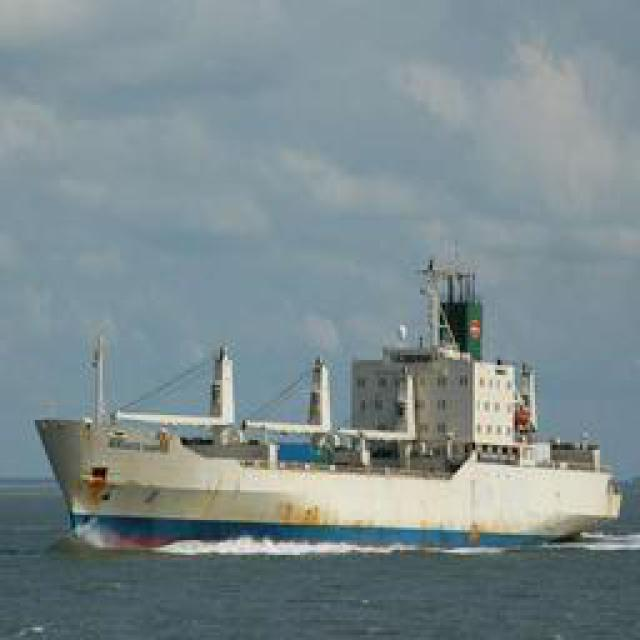Ship: (41, 284, 626, 559)
